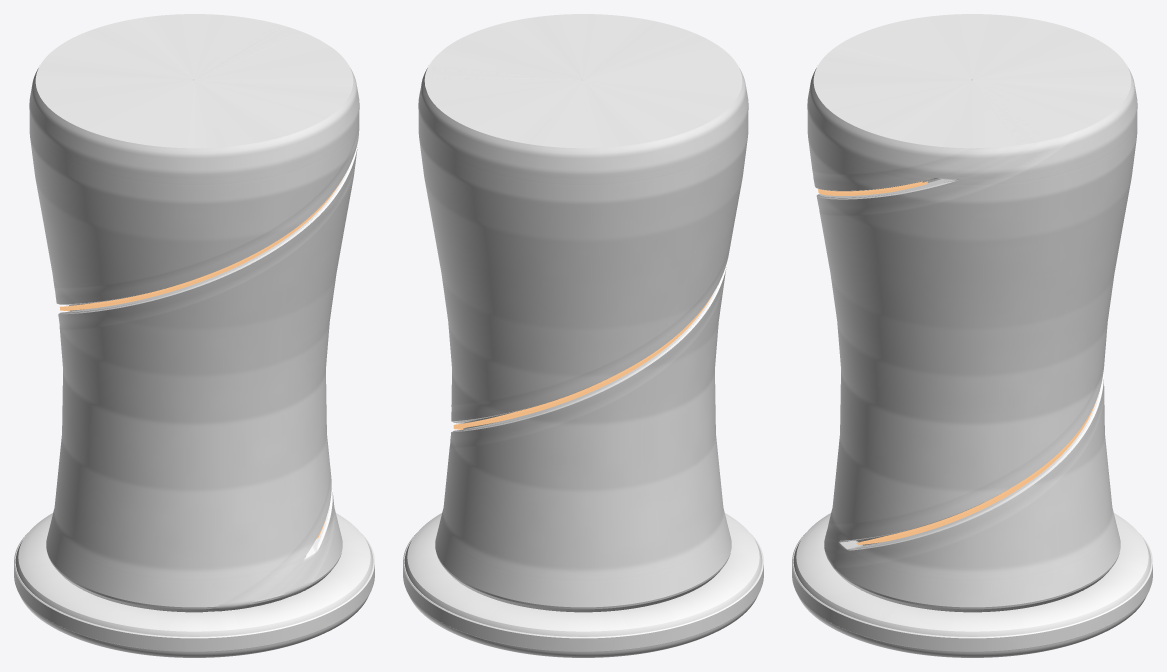
The model's file is vesper-01.glb.
3 renders of one model, left to right at view 1: azimuth 30°, elevation 25°; view 2: azimuth 150°, elevation 25°; view 3: azimuth 270°, elevation 25°, orthographic.
Parts seen in each view (by area): view 1: Shell, Plinth, Dial, LightPipe; view 2: Shell, Plinth, Dial, LightPipe; view 3: Shell, Plinth, Dial, LightPipe.
Boxes of the visible parts, bbox=[...] form: Shell: bbox=[29, 14, 359, 612]; Plinth: bbox=[15, 513, 373, 657]; Dial: bbox=[14, 533, 374, 651]; LightPipe: bbox=[59, 179, 342, 538]; Shell: bbox=[418, 14, 748, 612]; Plinth: bbox=[404, 513, 762, 657]; Dial: bbox=[403, 533, 763, 651]; LightPipe: bbox=[453, 293, 713, 429]; Shell: bbox=[807, 14, 1137, 612]; Plinth: bbox=[793, 513, 1151, 657]; Dial: bbox=[792, 533, 1152, 651]; LightPipe: bbox=[818, 181, 1096, 544].
Bounding box in the file's own units: 0.1972 × 0.3049 × 0.1972.
Materials: 2 (1 with a texture image).
